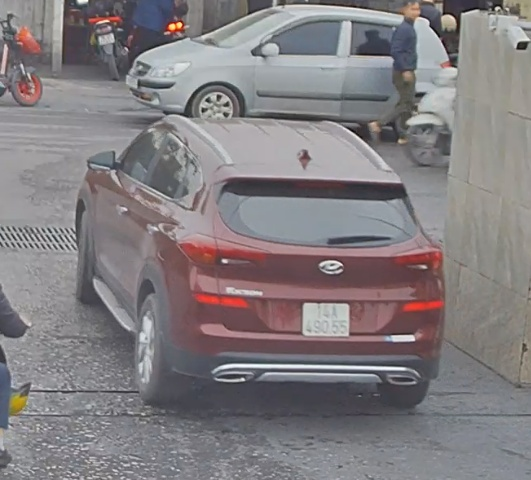vehicle plate: (297, 298, 352, 338)
